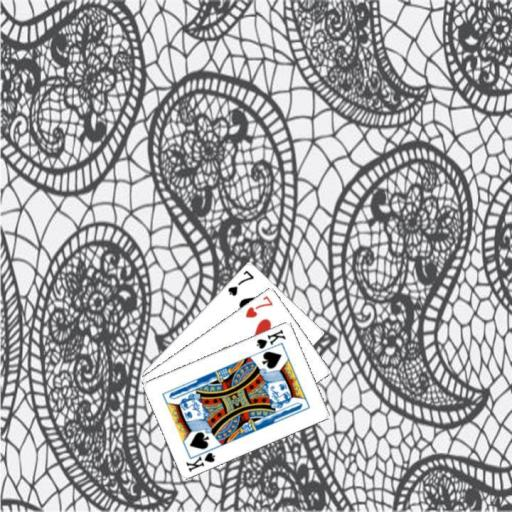7H: (242, 293, 274, 320)
7S: (225, 267, 255, 297)
KS: (183, 444, 217, 473), (253, 326, 287, 350)
